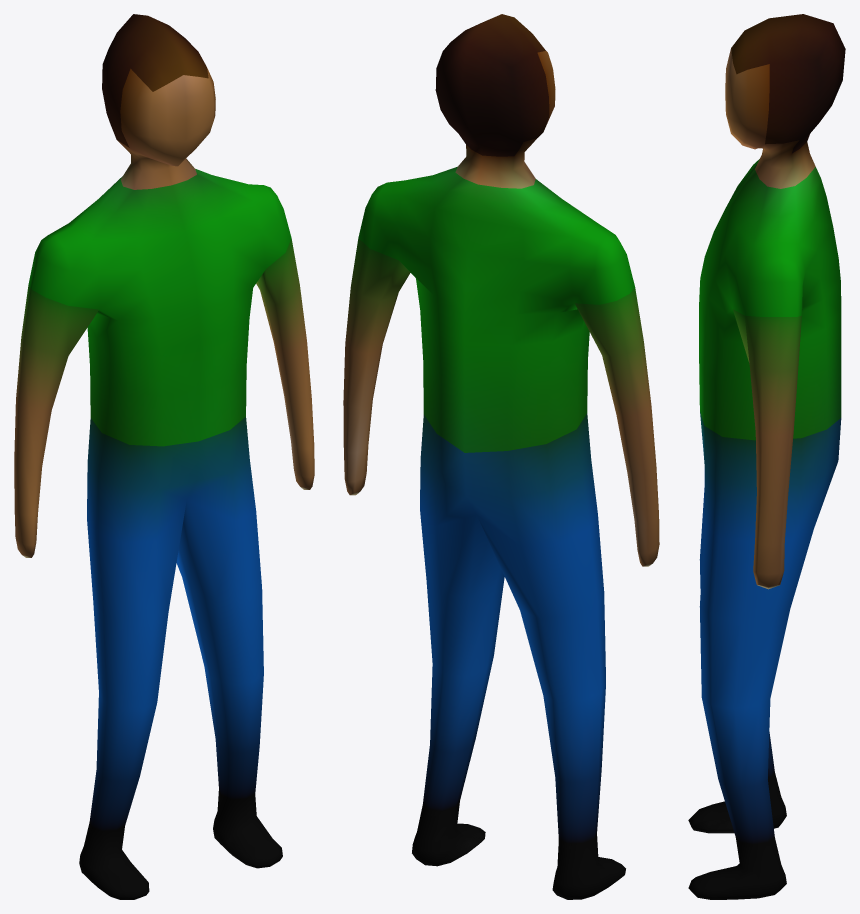
The model's file is character model.fbx.
3 renders of one model, left to right at view 1: azimuth 30°, elevation 25°; view 2: azimuth 150°, elevation 25°; view 3: azimuth 270°, elevation 25°, orthographic. The views are drawn at different scales.
Visible parts, largest first — view 1: Cube; view 2: Cube; view 3: Cube.
Part boxes in pixels (<box>): Cube: <box>14,14,314,899</box>; Cube: <box>343,14,659,899</box>; Cube: <box>688,14,845,899</box>.
Bounding box in the file's own units: 295 × 795 × 134.
